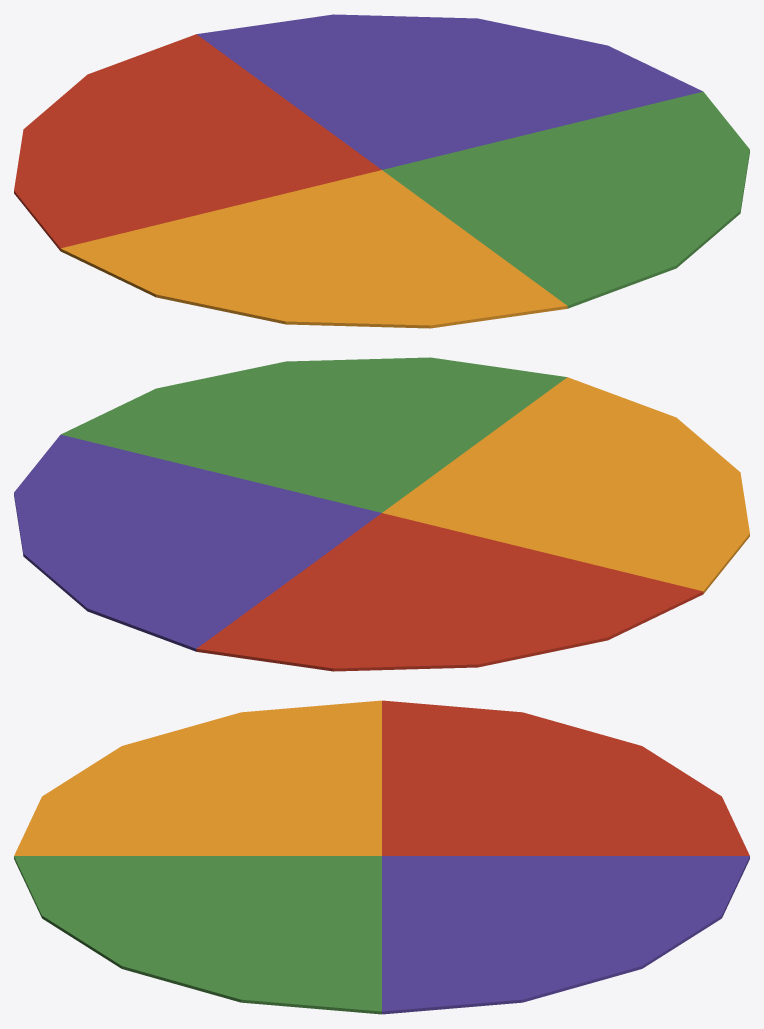
Rendered from Int_Carpet02.fbx.
3 renders of one model, top to bottom at view 1: azimuth 30°, elevation 25°; view 2: azimuth 150°, elevation 25°; view 3: azimuth 270°, elevation 25°, orthographic.
Parts seen in each view (by area): view 1: Int_Carpet02; view 2: Int_Carpet02; view 3: Int_Carpet02.
Boxes of the visible parts, <box> form: Int_Carpet02: <box>14,14,749,328</box>; Int_Carpet02: <box>14,357,749,671</box>; Int_Carpet02: <box>14,700,749,1014</box>.
Size of what is drawn, in the model's own units: 450 by 450 by 2.
